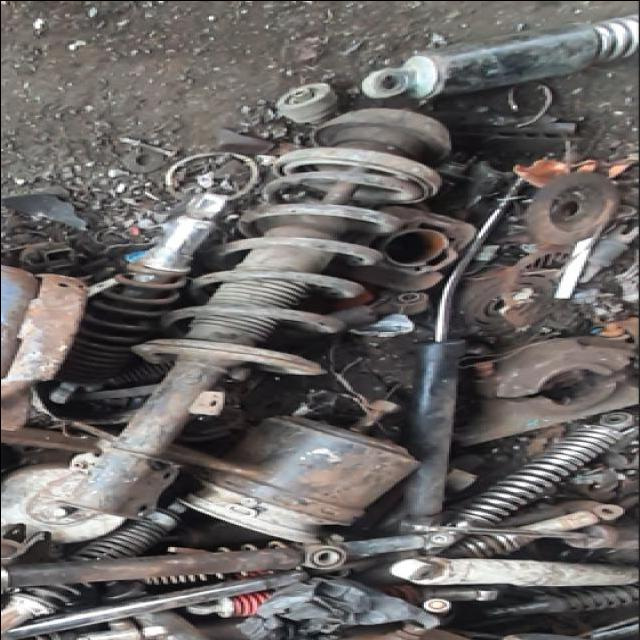shock absorber: (55, 107, 451, 521), (399, 176, 522, 534), (424, 409, 640, 546)
